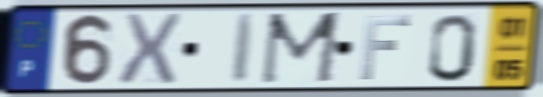0: (426, 11, 481, 84)
6: (60, 12, 115, 89)
F: (357, 14, 415, 82)
I: (229, 12, 260, 86)
M: (257, 9, 347, 87)
X: (114, 11, 184, 88)
